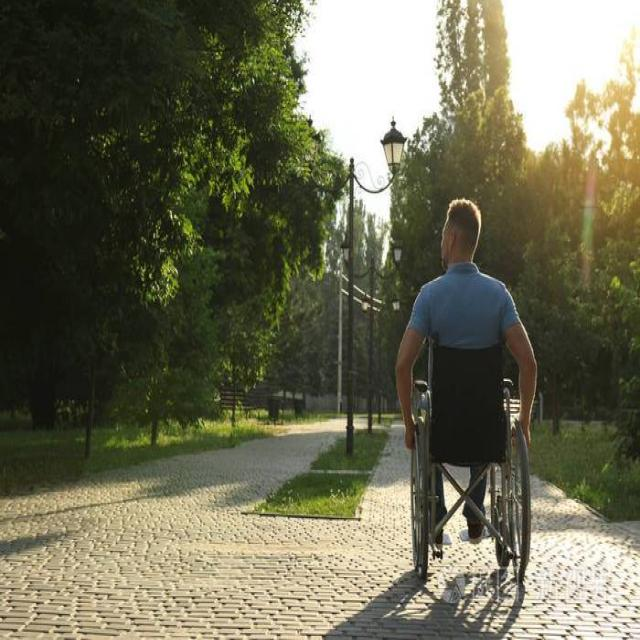wheelchairs: (393, 329, 539, 595)
